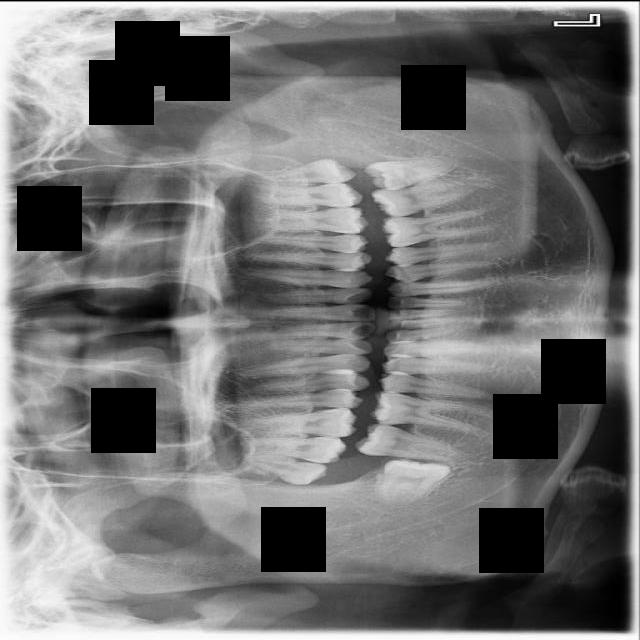3M ESPE Implant: (239, 455, 329, 487)
73: (580, 33, 600, 42)
BioHorizons Implant: (257, 182, 364, 207)
BioLife Implant: (251, 155, 358, 185)
Biomet 3i Implant: (362, 156, 457, 191)
Blue Sky Bio Implant: (371, 178, 472, 219)
Caries: (236, 435, 349, 463)
Implant: (352, 421, 464, 462)
Keystone Dental Implant: (374, 454, 453, 507)
